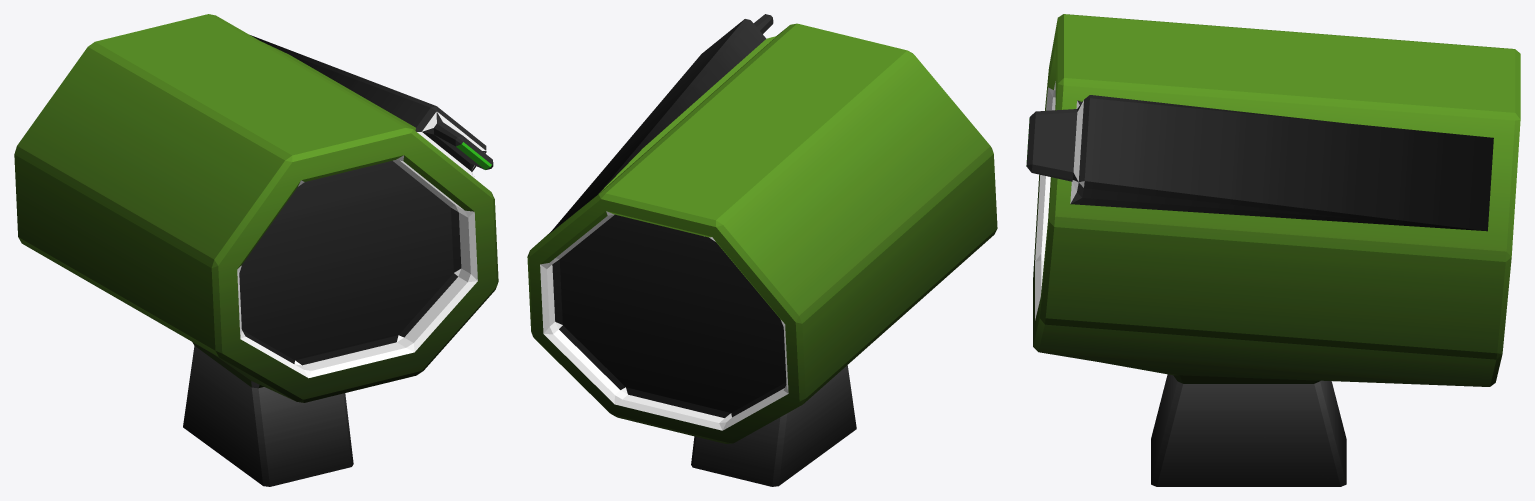
Rendered from Heavy_Shoulder_RocketPod_Small.fbx.
3 renders of one model, left to right at view 1: azimuth 30°, elevation 25°; view 2: azimuth 150°, elevation 25°; view 3: azimuth 270°, elevation 25°, orthographic. The views are drawn at different scales.
Parts seen in each view (by area): view 1: Shoulder_RocketPod; view 2: Shoulder_RocketPod; view 3: Shoulder_RocketPod.
Part boxes in pixels (<box>): Shoulder_RocketPod: <box>14,14,498,486</box>; Shoulder_RocketPod: <box>527,14,997,486</box>; Shoulder_RocketPod: <box>1026,14,1520,486</box>.
Bounding box in the file's own units: 25.29 × 30.73 × 32.86.
